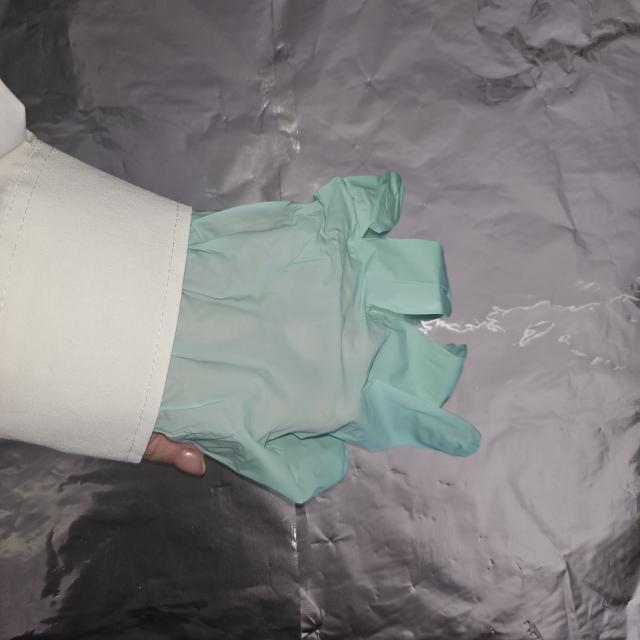glove_partial: (144, 170, 482, 507)
